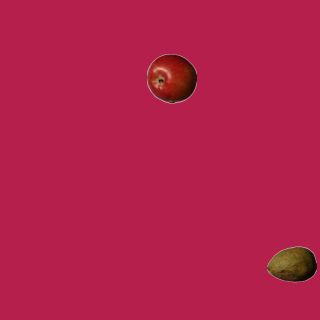Apple Braeburn: (146, 53, 196, 103)
Papaya: (266, 239, 316, 289)
